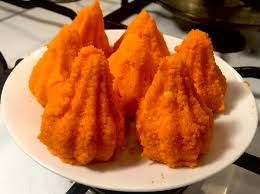modak: (36, 7, 234, 117), (51, 52, 128, 174), (141, 50, 217, 171)
